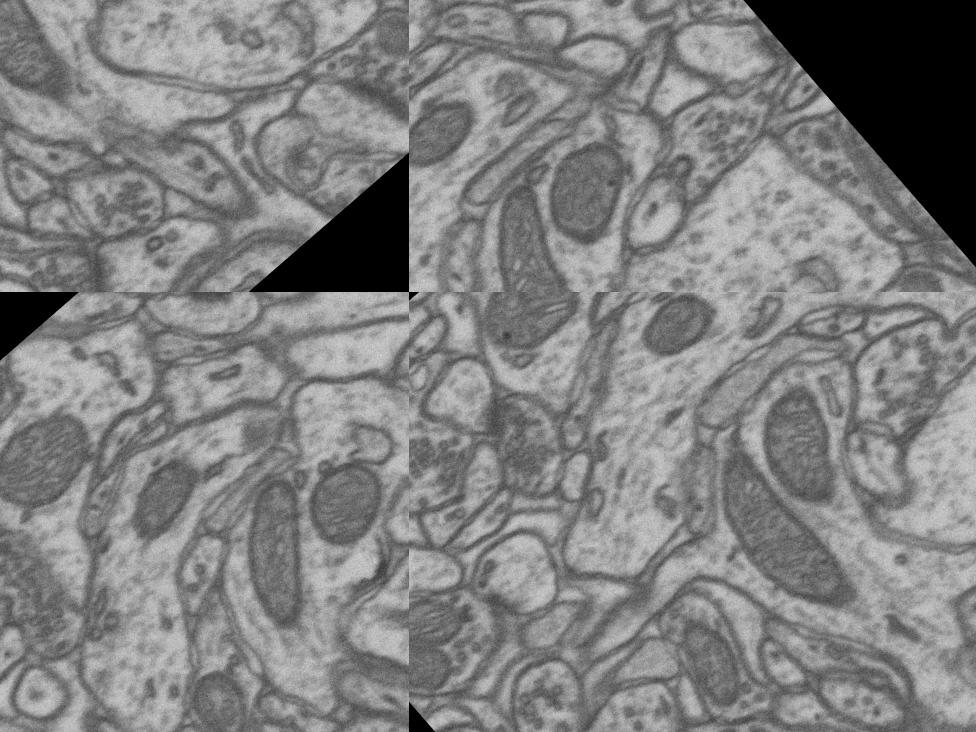mitochondria: (685, 440, 864, 632), (188, 464, 368, 645), (444, 168, 644, 292), (517, 120, 662, 264), (732, 378, 872, 520), (822, 115, 955, 262), (0, 388, 113, 532), (281, 438, 409, 564), (102, 442, 224, 560), (0, 0, 118, 120), (660, 610, 764, 718), (464, 292, 601, 368), (409, 76, 495, 184), (169, 653, 269, 732), (631, 292, 730, 370), (409, 578, 473, 665), (409, 619, 461, 707), (882, 254, 958, 292), (0, 359, 28, 452)
